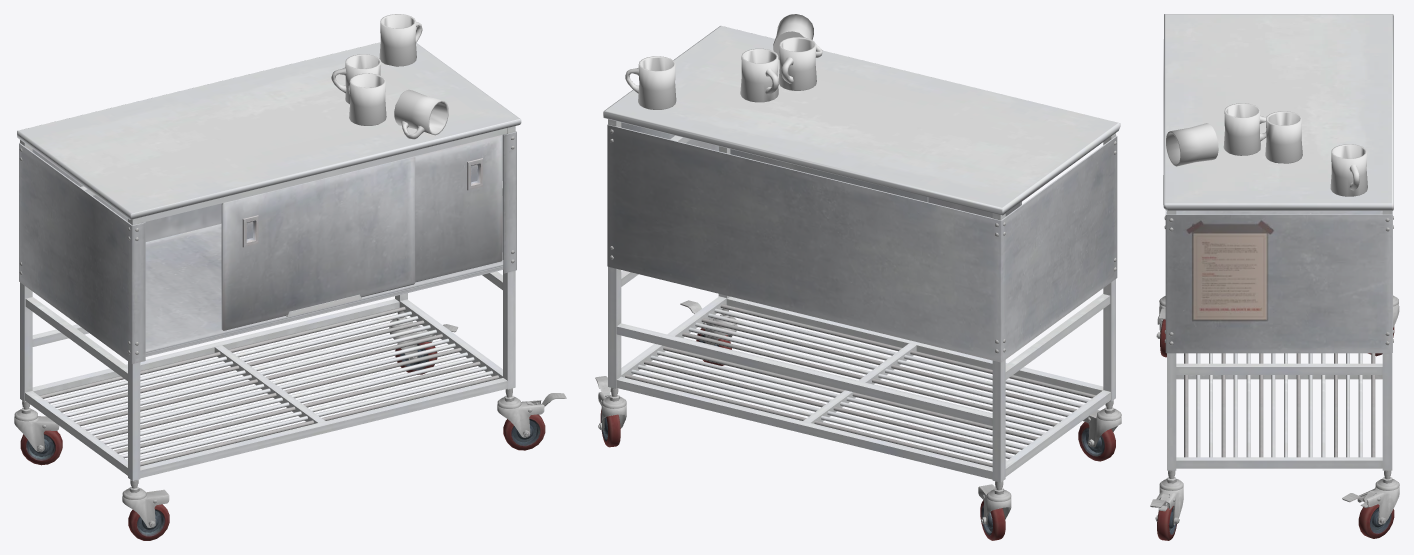
Rendered from coffeeCart_hq.glb.
The picture shows the model from 3 angles, left to right: view 1: azimuth 30°, elevation 25°; view 2: azimuth 150°, elevation 25°; view 3: azimuth 270°, elevation 25°; orthographic projection. The views are drawn at different scales.
Parts seen in each view (by area): view 1: CoffeeCart_01_cart, CoffeeCart_01_mugs; view 2: CoffeeCart_01_cart, CoffeeCart_01_mugs; view 3: CoffeeCart_01_cart, CoffeeCart_01_mugs.
Part boxes in pixels (x1,y1,x2,y2): CoffeeCart_01_cart: (14,42,566,540); CoffeeCart_01_mugs: (331,14,448,139); CoffeeCart_01_cart: (595,26,1121,540); CoffeeCart_01_mugs: (625,14,822,109); CoffeeCart_01_cart: (1150,14,1399,540); CoffeeCart_01_mugs: (1166,103,1367,196).
Size of the model in its own units: 1.44 by 1.17 by 0.716.
Materials: 2 (1 with a texture image).
